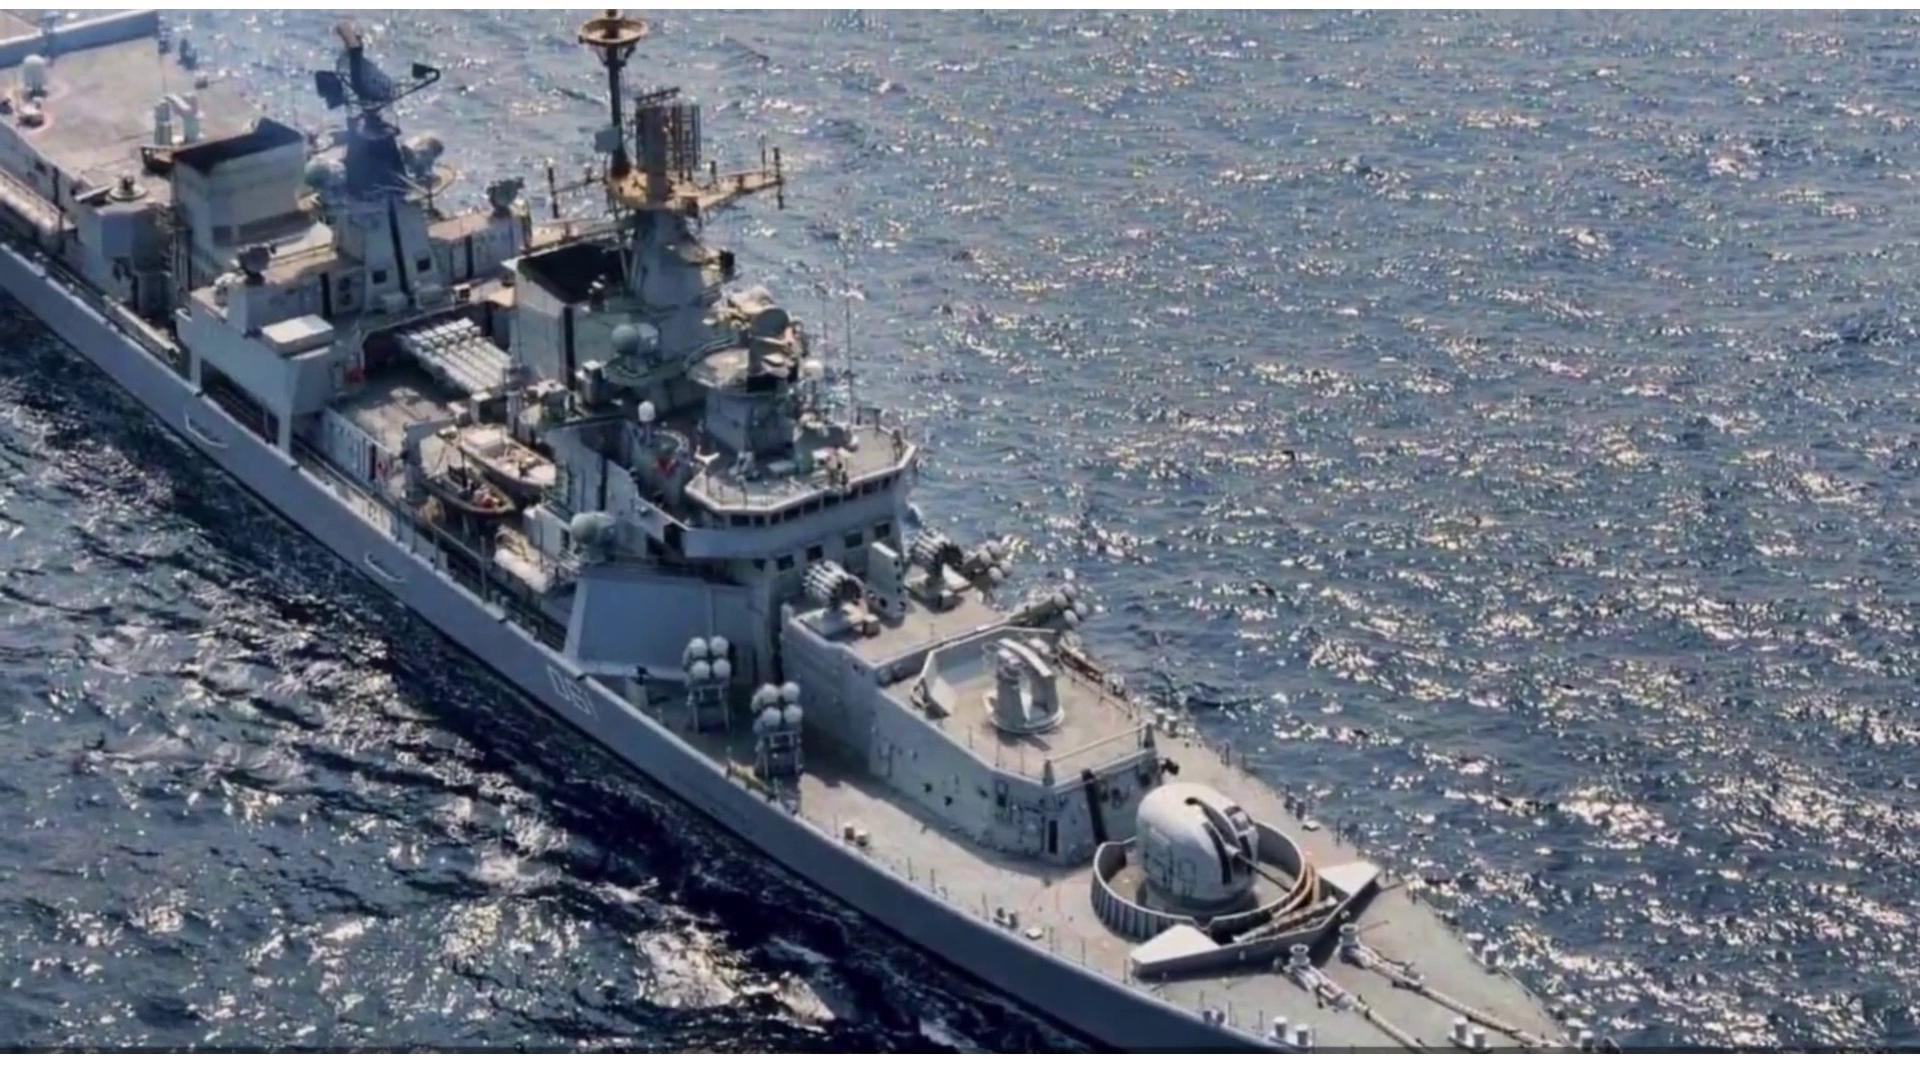OCR: (531, 654, 611, 735)
